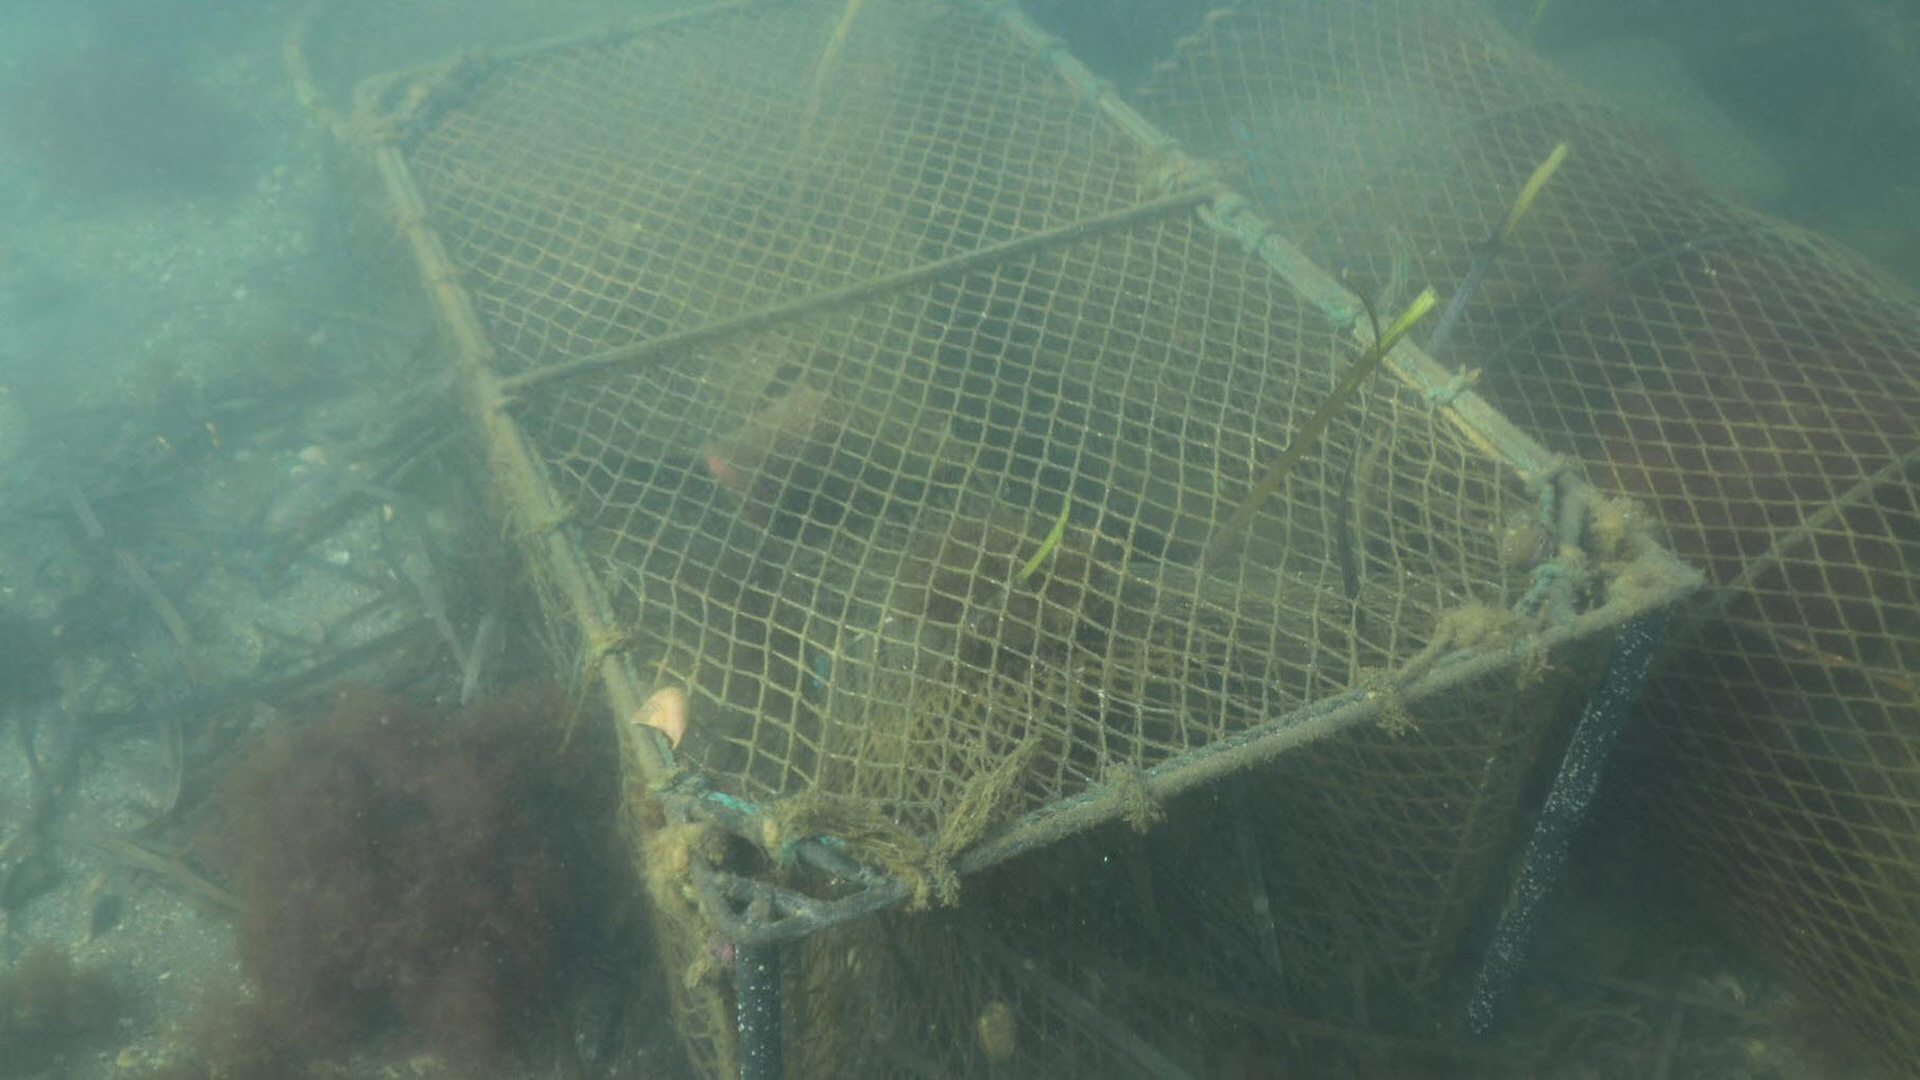rectangular fish trap: (347, 0, 1698, 1080)
spring fish trap: (1125, 0, 1920, 1080)
